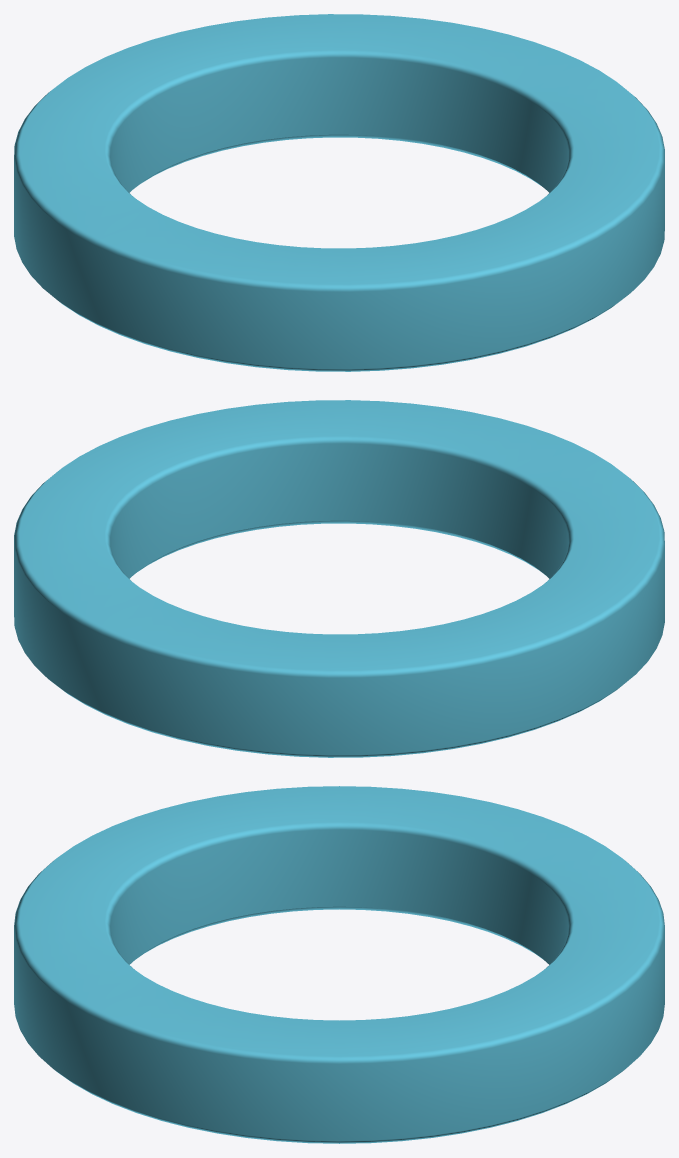
3 renders of one model, top to bottom at view 1: azimuth 30°, elevation 25°; view 2: azimuth 150°, elevation 25°; view 3: azimuth 270°, elevation 25°, orthographic.
Visible parts, largest first — view 1: seal_body; view 2: seal_body; view 3: seal_body.
Boxes of the visible parts, x1,y1,x2,y2 form: seal_body: [14, 14, 664, 371]; seal_body: [14, 400, 664, 757]; seal_body: [14, 786, 664, 1143].
Size of the model in its own units: 0.0428 by 0.00635 by 0.0428.
